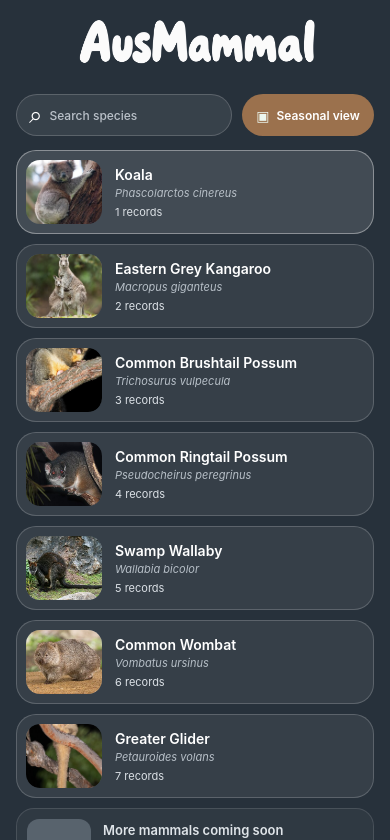
ExplorerWorkspace species flow › shows no latest date while records are loading
Click the button "Koala Phascolarctos cinereus 1 records".
click(195, 192)  # box [16,150,374,234]
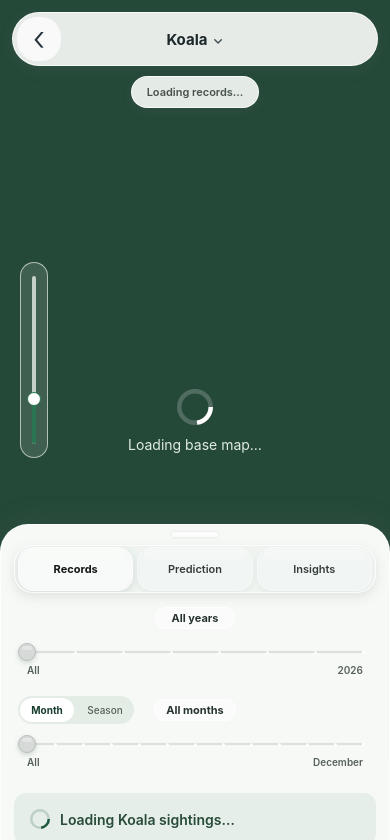
expect the text "Loading records…" is shown: met, box [147,85,243,99]
Click the tab "Insights".
click(314, 569)  # box [257,547,372,591]
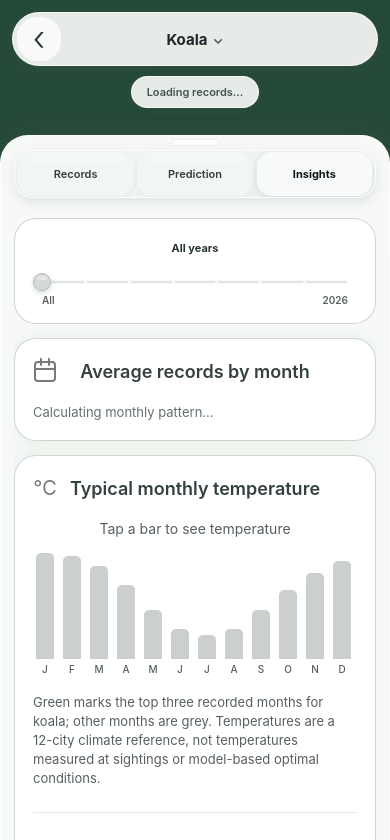
expect the text "Calculating monthly pattern…" is shown: met, box [33,404,214,420]
